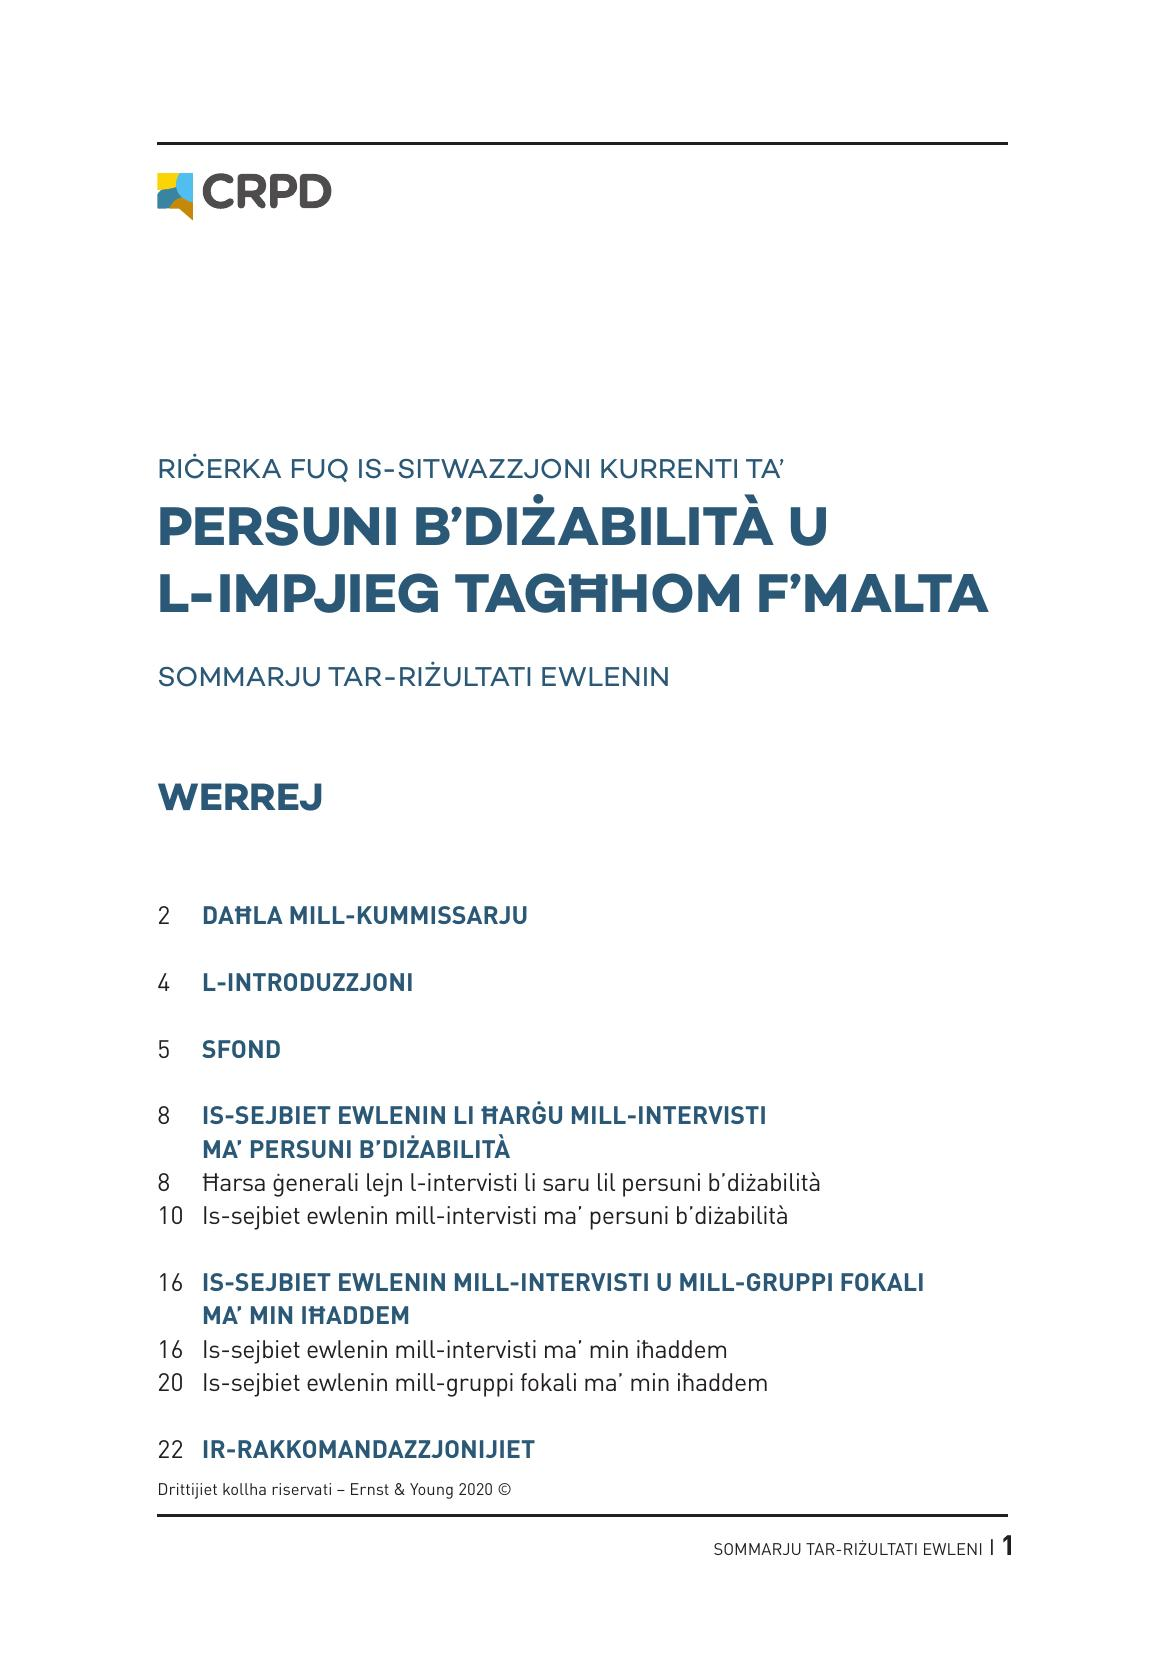text: (148, 760, 351, 826)
